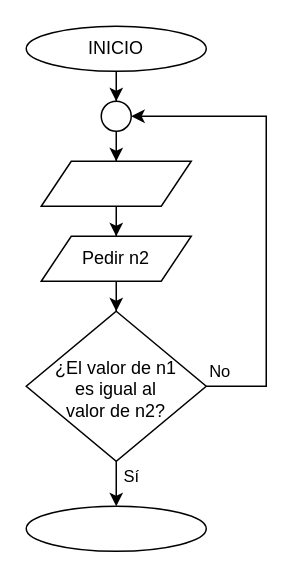
Some shapes in this 305 by 578 pixel diagram are drawn without their labels. Each missing label, with the centre of its shape:
FIN: the point at 115,528
Pedir n1: the point at 115,183
